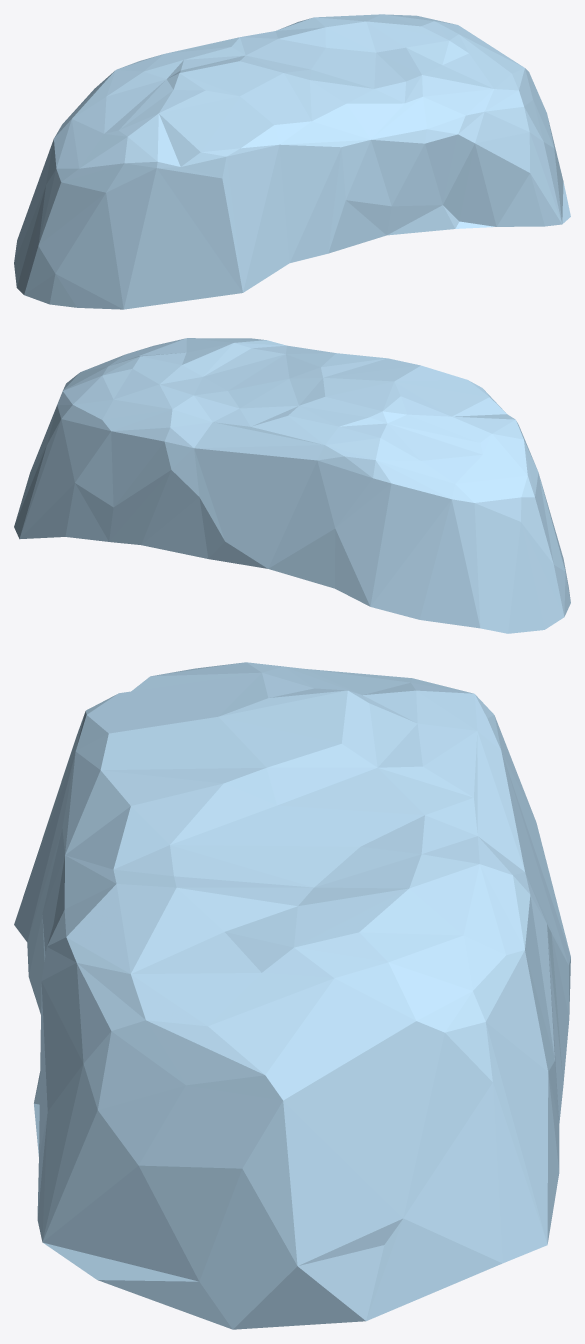
File: PROP_Ice_FloorS01.FBX
3 views of the same model, one above another, from view 1: azimuth 30°, elevation 25°; view 2: azimuth 150°, elevation 25°; view 3: azimuth 270°, elevation 25° (orthographic). The views are drawn at different scales.
Parts seen in each view (by area): view 1: PROP_Ice_FloorS01; view 2: PROP_Ice_FloorS01; view 3: PROP_Ice_FloorS01.
Part boxes in pixels (<box>): PROP_Ice_FloorS01: <box>14,14,570,309</box>; PROP_Ice_FloorS01: <box>14,338,570,633</box>; PROP_Ice_FloorS01: <box>14,662,570,1329</box>.
Size of the model in its own units: 1384 by 461 by 707.
Materials: 1 (1 with a texture image).
